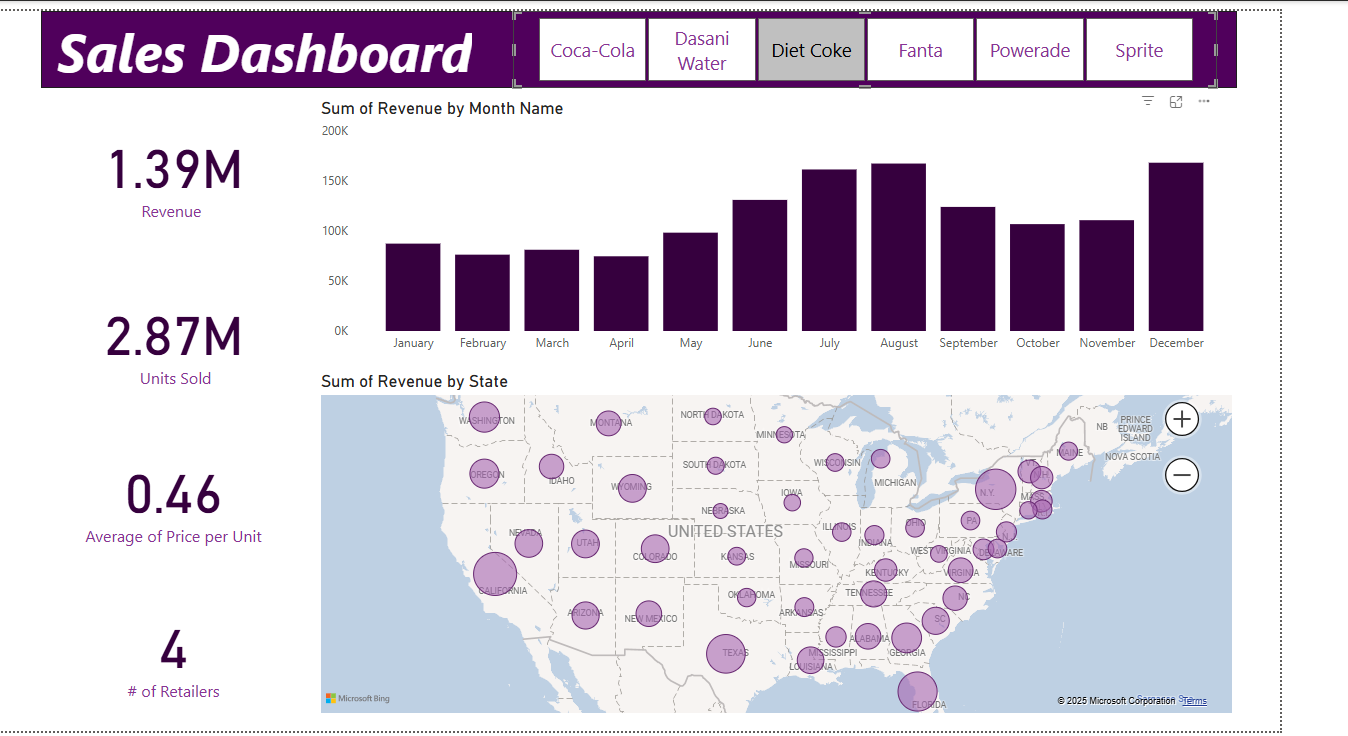

What the dashboard file says about the page in this screenshot:
{"tool":"powerbi","page":{"name":"Page 1","canvas":[1280,720],"ordinal":0},"visuals":[{"type":"shape","box":[41,0,1196,77],"z":0},{"type":"card","fields":{"Values":["Sum(Data.Revenue )"]},"box":[31,87,285,148],"z":1},{"type":"card","fields":{"Values":["Avg(Data.Price per Unit)"]},"box":[31,420.3,285,132],"z":2},{"type":"card","fields":{"Values":["Sum(Data.Units Sold)"]},"box":[31,257.7,285,140],"z":3},{"type":"columnChart","fields":{"Y":["Sum(Data.Revenue )"],"Category":["Data.Month Name"]},"box":[316,87,921,263],"z":4},{"type":"map","fields":{"Category":["Data.State"],"Size":["Sum(Data.Revenue )"]},"box":[316,360,921,347],"z":5},{"type":"slicer","fields":{"Values":["Data.Beverage Brand"]},"box":[513,0,704,77],"z":6},{"type":"card","fields":{"Values":["Count(Data.Retailer)"]},"box":[31,575,285,132],"z":7}]}

Visuals, with their boxes on the page's 1280x720 design canvas (x1, y1, x2, y2). These are canvas units, not pixel positions in the 1348x736 screenshot, which may show the page scaled, cropped or inside an application window:
shape: BBox(41, 0, 1237, 77)
card - Sum(Data.Revenue ): BBox(31, 87, 316, 235)
card - Avg(Data.Price per Unit): BBox(31, 420, 316, 552)
card - Sum(Data.Units Sold): BBox(31, 258, 316, 398)
columnChart - Sum(Data.Revenue ) x Data.Month Name: BBox(316, 87, 1237, 350)
map - Data.State x Sum(Data.Revenue ): BBox(316, 360, 1237, 707)
slicer - Data.Beverage Brand: BBox(513, 0, 1217, 77)
card - Count(Data.Retailer): BBox(31, 575, 316, 707)
